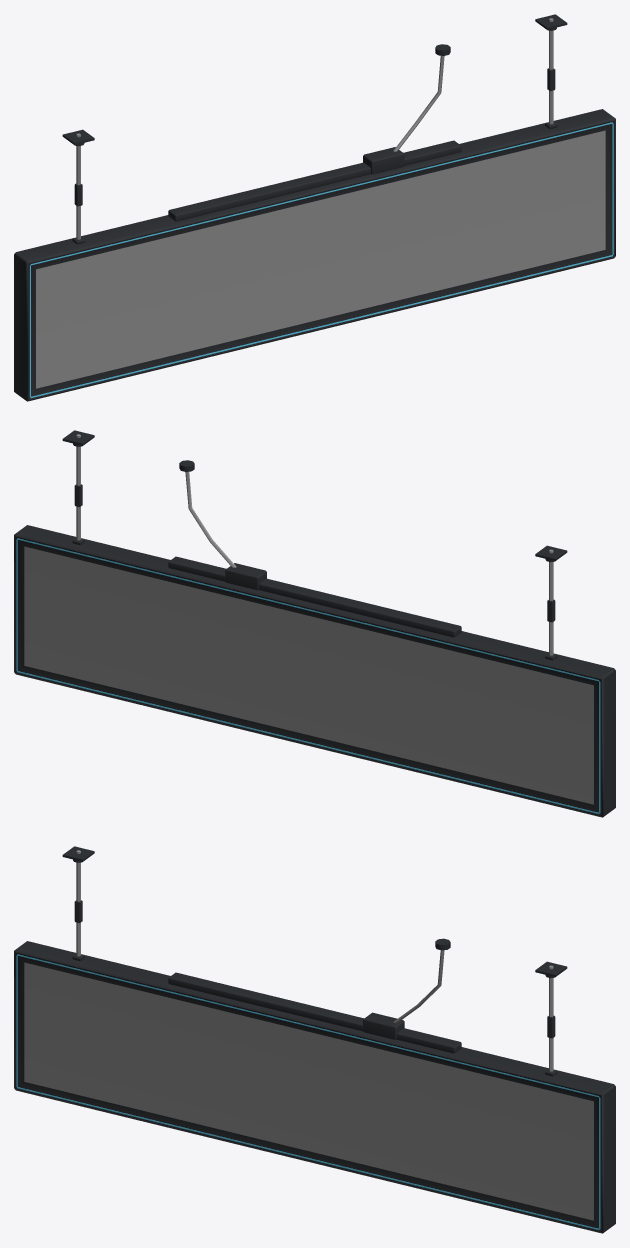
Rendered from Sign_Hanging.fbx.
3 views of the same model, one above another, from view 1: azimuth 30°, elevation 25°; view 2: azimuth 150°, elevation 25°; view 3: azimuth 330°, elevation 25° (orthographic).
Visible parts, largest first — view 1: Sign_Hanging_LOD0; view 2: Sign_Hanging_LOD0; view 3: Sign_Hanging_LOD0.
Boxes of the visible parts, bbox=[...] form: Sign_Hanging_LOD0: bbox=[14, 14, 615, 401]; Sign_Hanging_LOD0: bbox=[14, 430, 615, 817]; Sign_Hanging_LOD0: bbox=[14, 846, 615, 1233].
Size of what is drawn, in the model's own units: 3.5 by 1.41 by 0.14.
